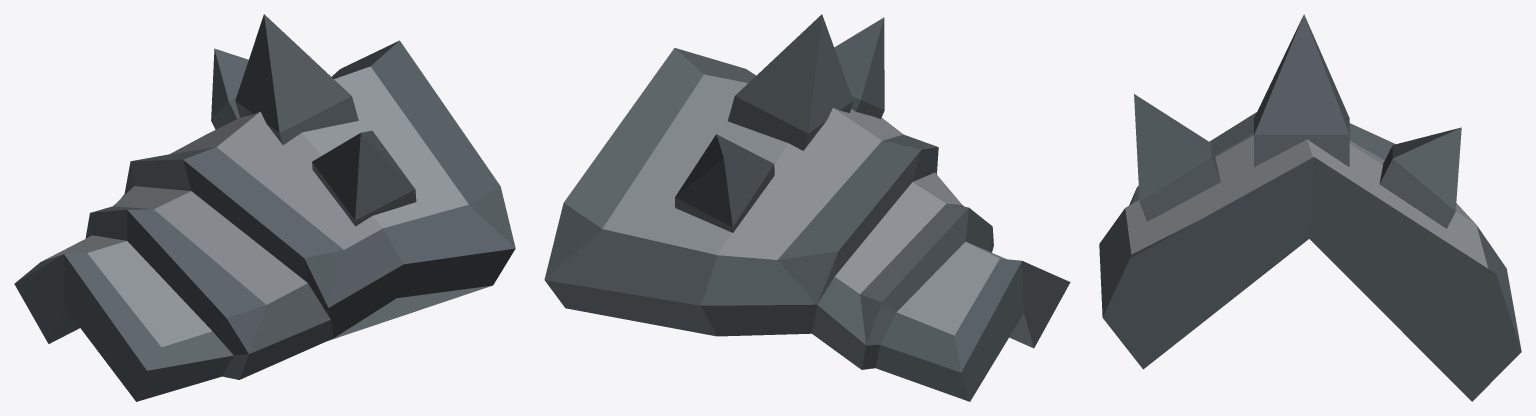
Rendered from Chr_ShoulderAttachRight_08_Static.fbx.
3 views of the same model, side by side, from view 1: azimuth 30°, elevation 25°; view 2: azimuth 150°, elevation 25°; view 3: azimuth 270°, elevation 25° (orthographic). The views are drawn at different scales.
Visible parts, largest first — view 1: Chr_ShoulderAttachRight_08_Static; view 2: Chr_ShoulderAttachRight_08_Static; view 3: Chr_ShoulderAttachRight_08_Static.
Part boxes in pixels (x1=…): Chr_ShoulderAttachRight_08_Static: x1=14, y1=14, x2=515, y2=401; Chr_ShoulderAttachRight_08_Static: x1=544, y1=14, x2=1070, y2=401; Chr_ShoulderAttachRight_08_Static: x1=1099, y1=14, x2=1521, y2=401.
Size of the model in its own units: 0.3246 by 0.2636 by 0.295.
